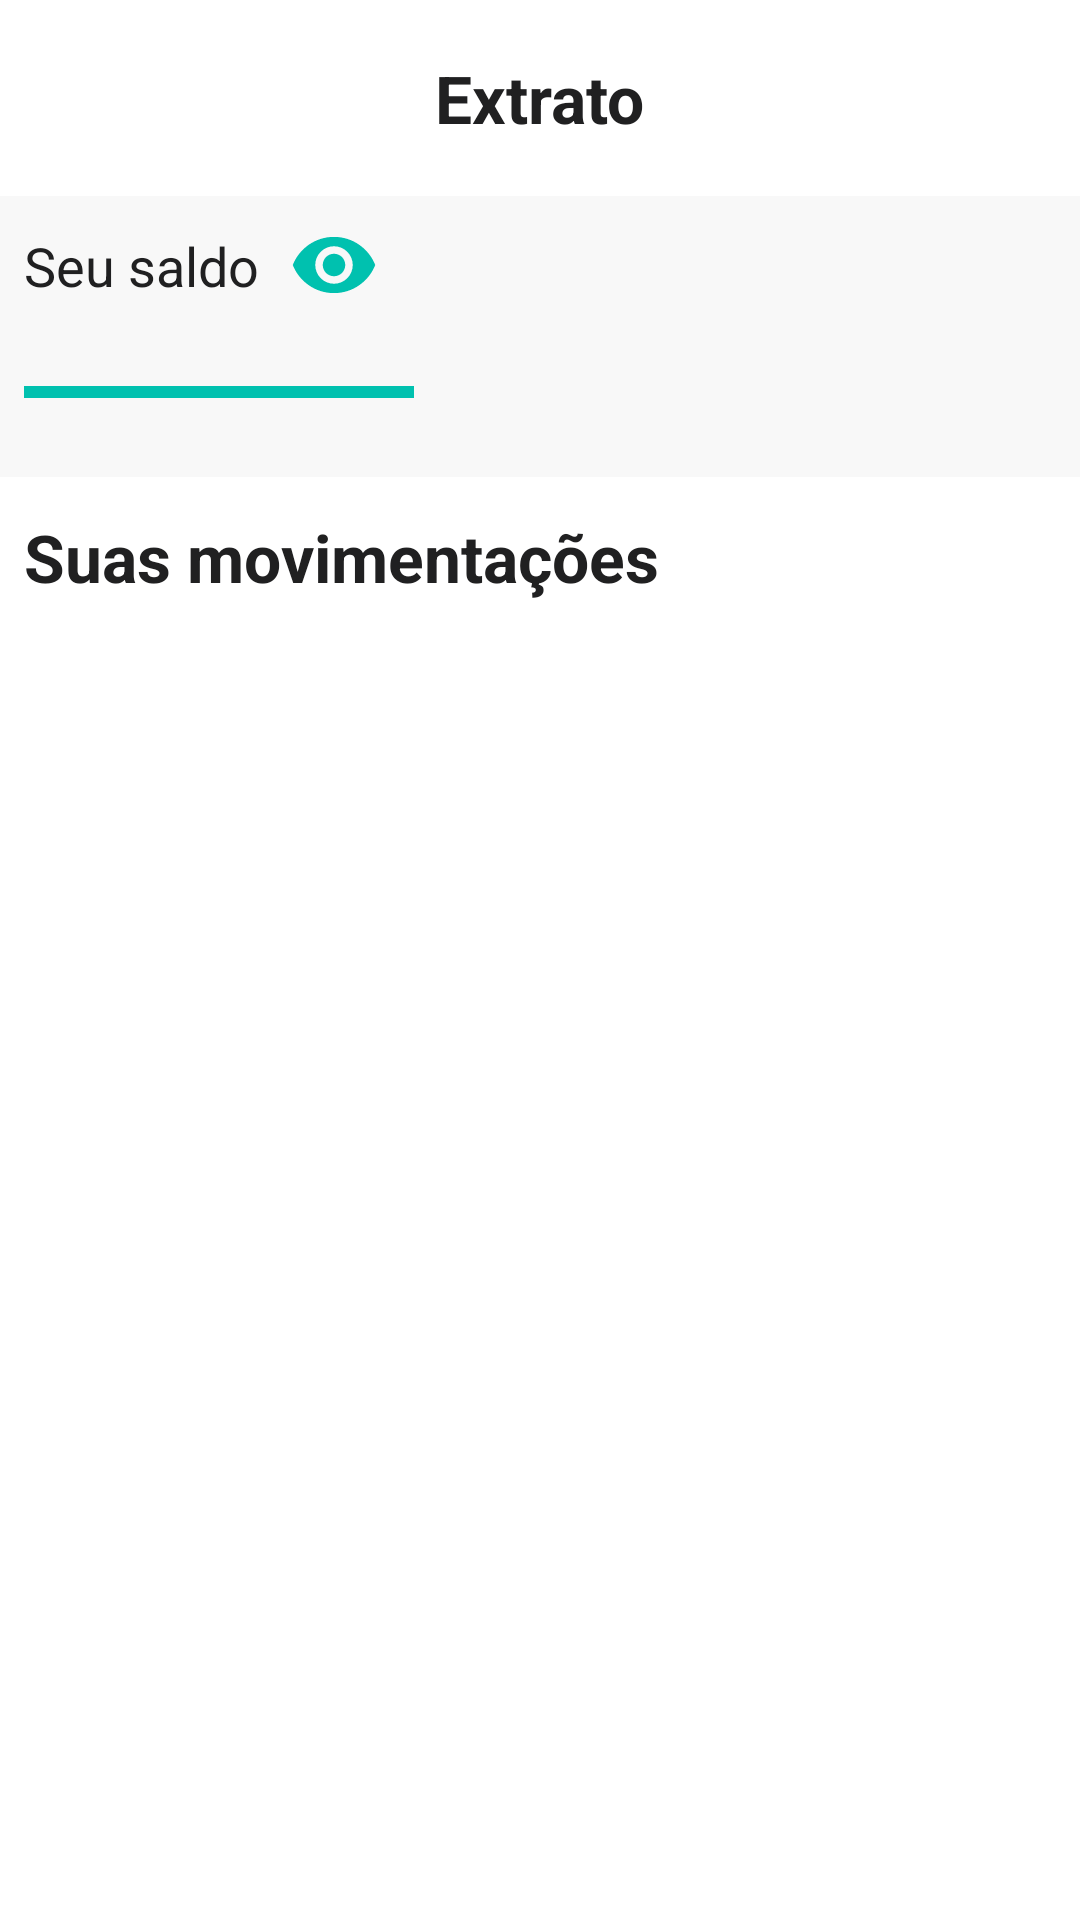

Named icons in this screenshot (1080 x 1920) and their bounding boxes, [left=x1, top=y1, right=x2, bottom=y2]:
eye open: [left=293, top=237, right=375, bottom=293]
